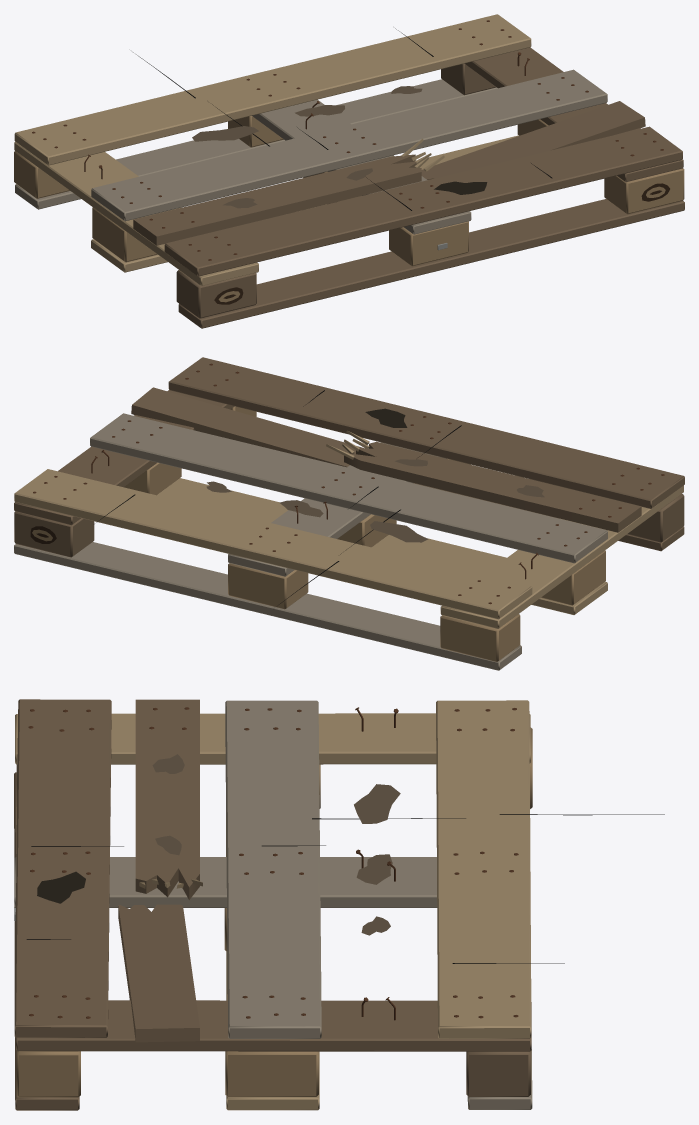
File: pallet@2.glb
3 renders of one model, top to bottom at view 1: azimuth 30°, elevation 25°; view 2: azimuth 150°, elevation 25°; view 3: azimuth 270°, elevation 25°, orthographic. The views are drawn at different scales.
Visible parts, largest first — view 1: palette0, palette2, palette1, palette3, palette8, palette5, palette6, palette9; view 2: palette0, palette2, palette1, palette3, palette8, palette5, palette9; view 3: palette0, palette1, palette2, palette3, palette8, palette5, palette9, palette4.
Part boxes in pixels (x1,y1,x2,y2): palette0: (133,47,684,328); palette2: (15,69,607,234); palette1: (14,14,531,286); palette3: (14,116,684,302); palette8: (192,86,422,208); palette5: (32,20,663,260); palette6: (214,183,669,304); palette9: (434,181,487,194); palette0: (14,357,684,557); palette2: (14,413,607,670); palette1: (14,430,683,628); palette3: (32,406,605,661); palette8: (206,459,544,542); palette5: (33,363,664,604); palette9: (365,408,407,427); palette0: (14,699,531,1110); palette1: (15,700,531,1110); palette2: (14,700,532,1109); palette3: (16,727,532,1097); palette8: (152,754,400,935); palette5: (28,707,518,1020); palette9: (37,871,85,903); palette4: (26,814,664,963).
Size of the model in its own units: 1.21 by 0.1663 by 1.04.
